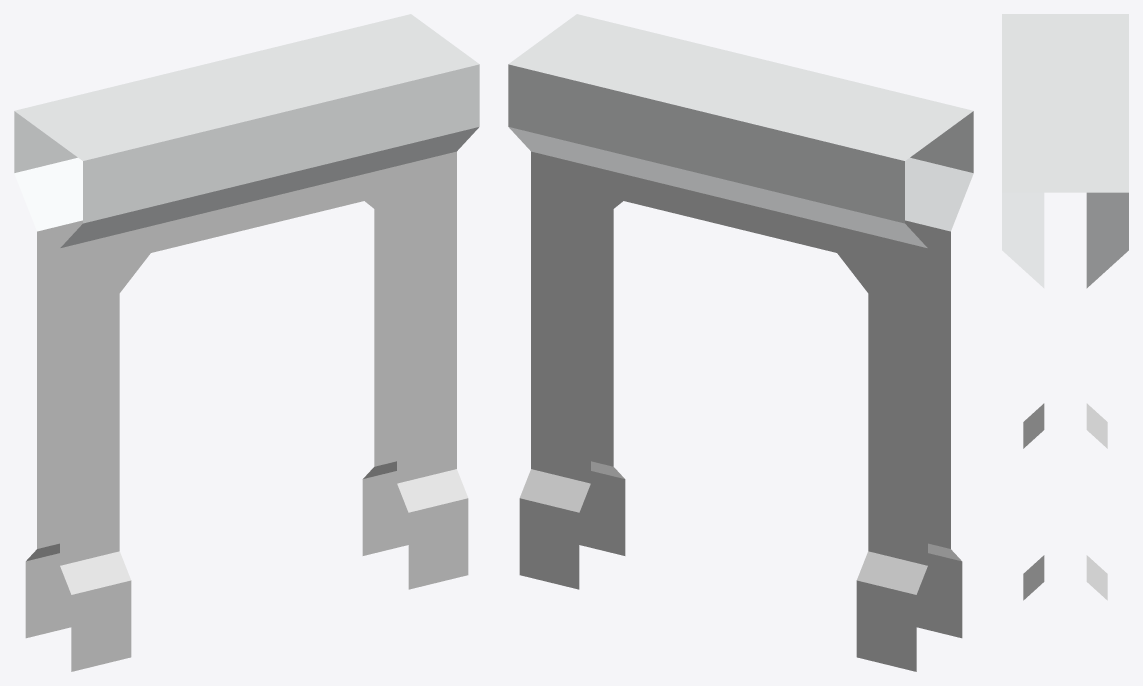
File: door_big_small_a.fbx
The picture shows the model from 3 angles, left to right: view 1: azimuth 30°, elevation 25°; view 2: azimuth 150°, elevation 25°; view 3: azimuth 270°, elevation 25°; orthographic projection. The views are drawn at different scales.
Parts seen in each view (by area): view 1: door_big_small_a; view 2: door_big_small_a; view 3: door_big_small_a.
Part boxes in pixels (x1,y1,x2,y2): door_big_small_a: (14,14,479,671); door_big_small_a: (508,14,973,671); door_big_small_a: (1002,14,1128,600).
Size of the model in its own units: 2 by 2.5 by 0.6.
